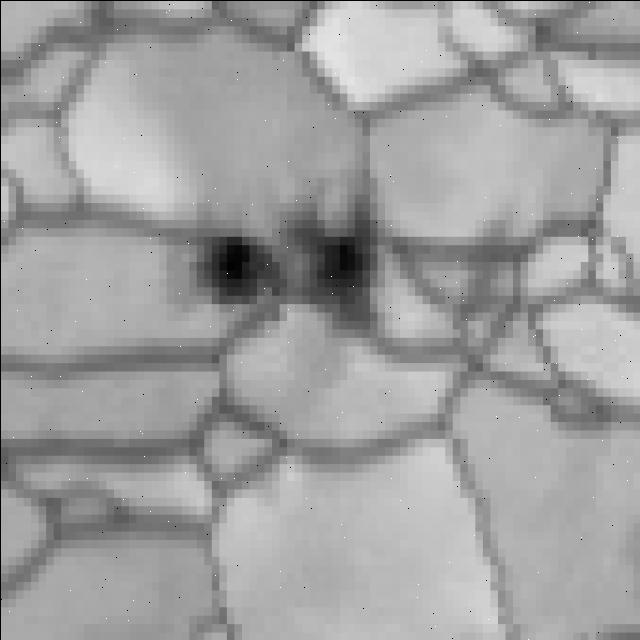good_void: (164, 214, 286, 329), (286, 211, 377, 330)
